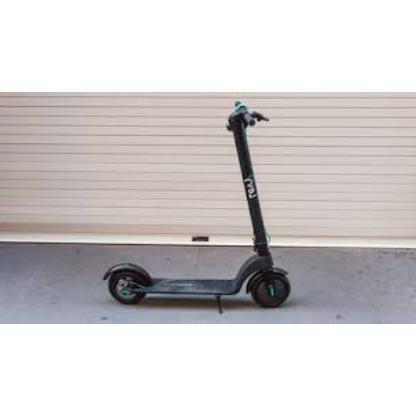bike: (103, 101, 291, 314)
